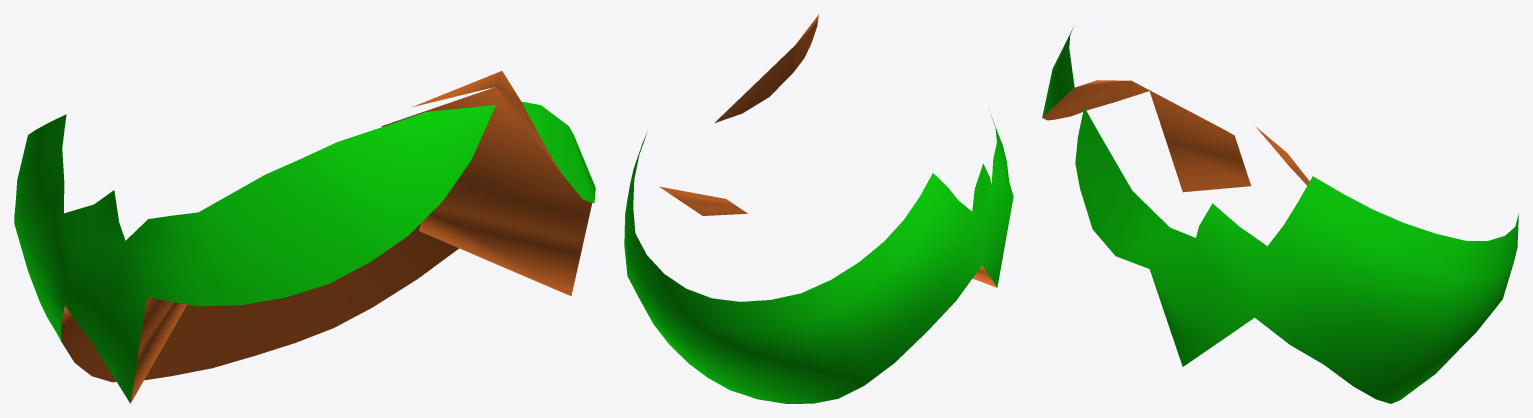
Rendered from Hair2_1.glb.
3 renders of one model, left to right at view 1: azimuth 30°, elevation 25°; view 2: azimuth 150°, elevation 25°; view 3: azimuth 270°, elevation 25°, orthographic. The views are drawn at different scales.
Size of the model in its own units: 56.78 by 46.32 by 59.62.
